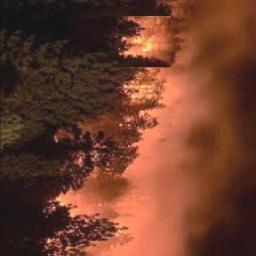Large fire: (116, 1, 185, 140)
Low smoke: (176, 2, 253, 252), (85, 141, 174, 255)
